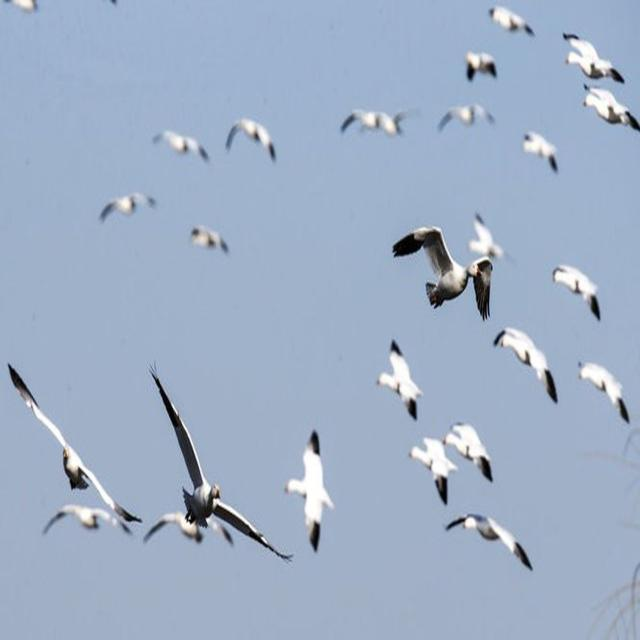bird: (2, 355, 152, 553), (142, 363, 242, 565), (389, 223, 498, 320), (286, 433, 339, 557), (492, 327, 562, 408), (445, 514, 536, 576), (402, 421, 456, 510), (577, 357, 636, 428), (379, 337, 425, 424), (466, 216, 506, 315), (444, 408, 493, 479), (564, 34, 627, 88), (551, 262, 605, 324), (434, 101, 498, 142), (154, 128, 212, 172), (579, 90, 638, 133), (225, 118, 280, 164), (98, 190, 160, 229), (340, 110, 408, 144), (523, 132, 563, 176), (186, 222, 231, 261), (489, 3, 536, 40), (461, 48, 497, 87)
